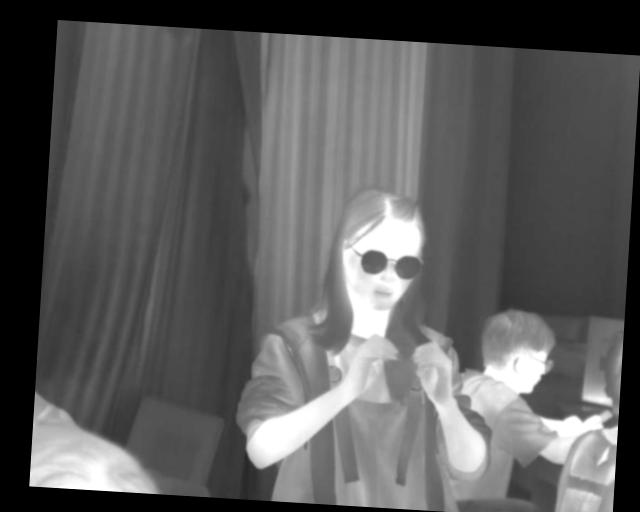face: (334, 186, 429, 313)
